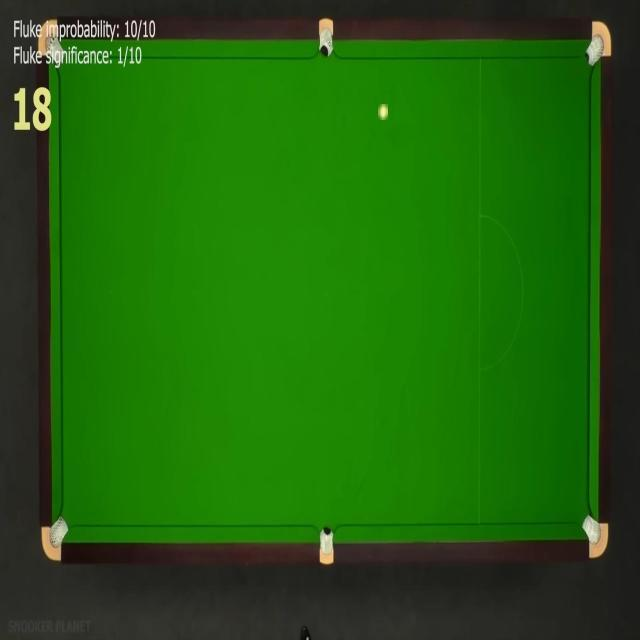Ball: (378, 104, 388, 120)
